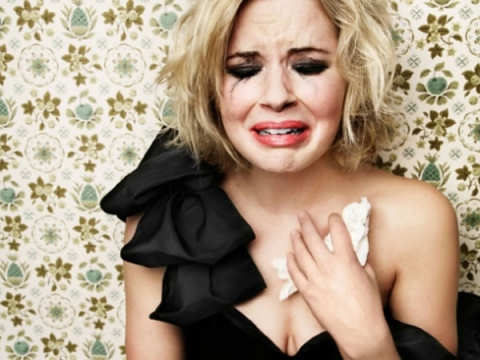sad: (215, 9, 343, 176)
